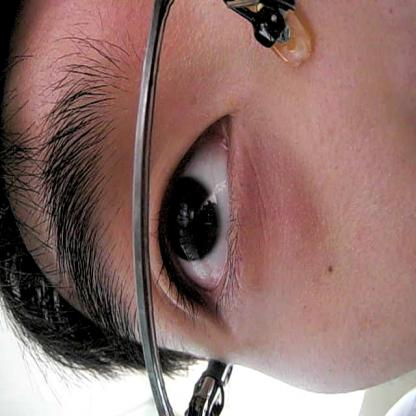Up: (152, 110, 251, 340)
